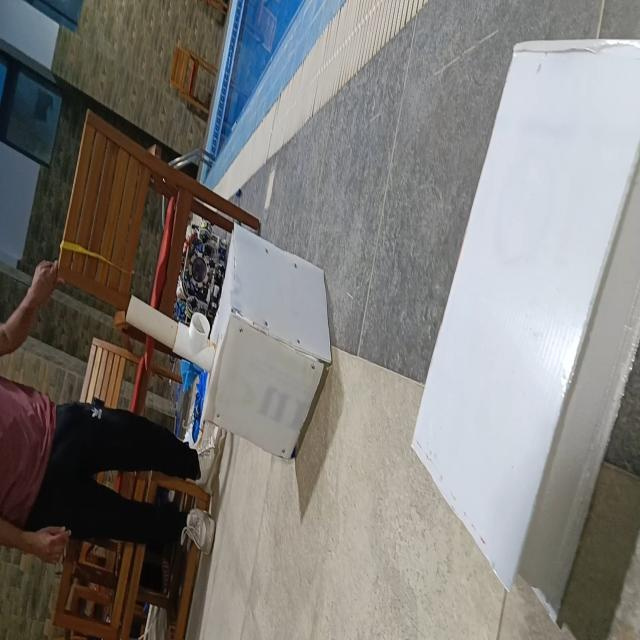Cube: (201, 221, 333, 460)
Cuboid: (409, 34, 639, 614)
